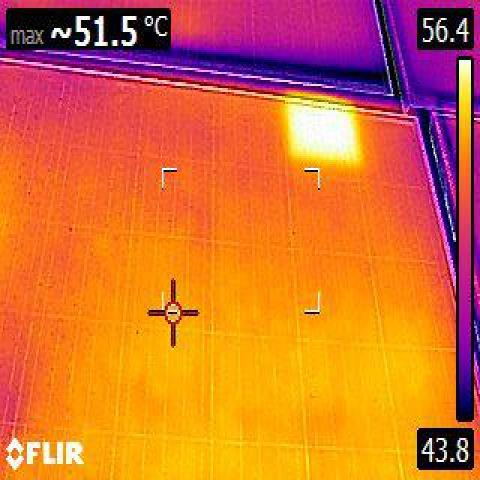fault: (290, 102, 357, 159)
